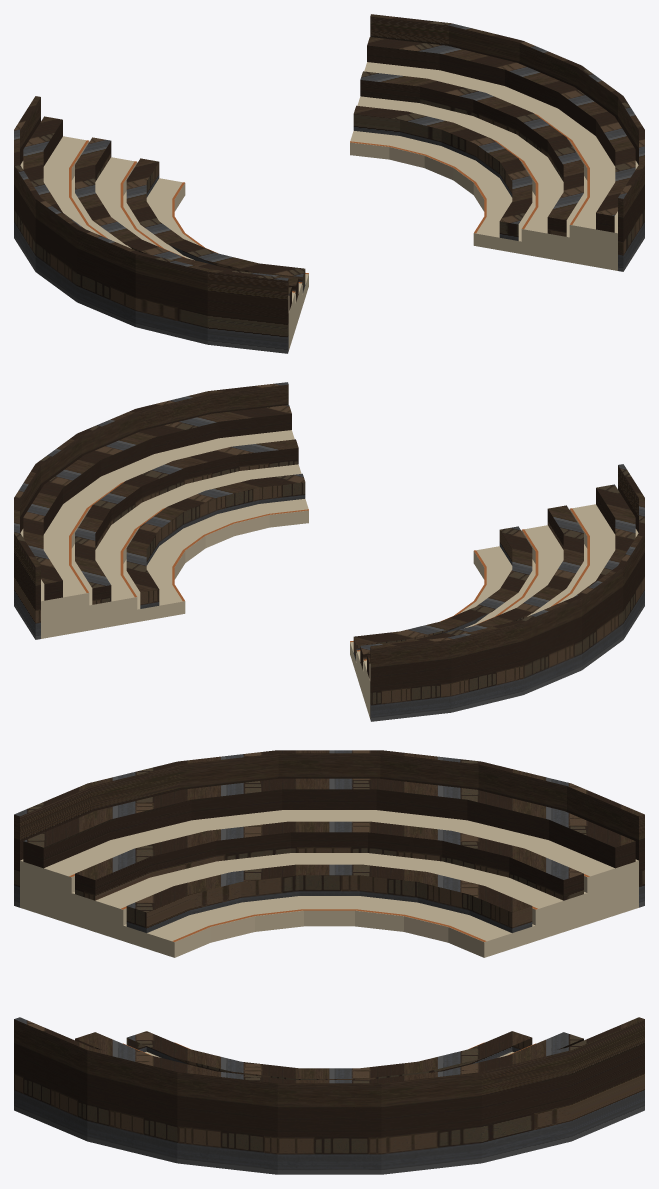
File: council_ring.glb
The picture shows the model from 3 angles, top to bottom: view 1: azimuth 30°, elevation 25°; view 2: azimuth 150°, elevation 25°; view 3: azimuth 270°, elevation 25°; orthographic projection. The views are drawn at different scales.
Visible parts, largest first — view 1: council_ring; view 2: council_ring; view 3: council_ring.
Boxes of the visible parts, bbox=[...] form: council_ring: bbox=[14, 14, 644, 353]; council_ring: bbox=[14, 382, 644, 721]; council_ring: bbox=[14, 750, 644, 1174].
Bounding box in the file's own units: 14.55 × 1.86 × 11.65.
3 materials, 1 textured.
